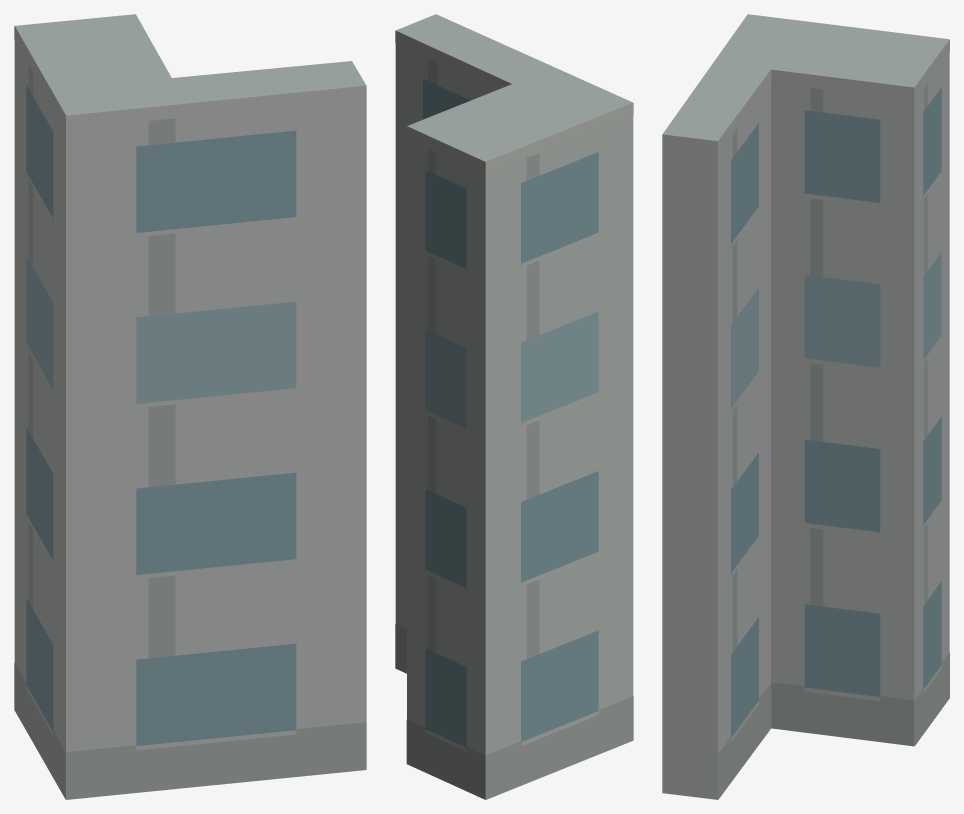
Rendered from survey-upis-32817747.glb.
3 renders of one model, left to right at view 1: azimuth 30°, elevation 25°; view 2: azimuth 150°, elevation 25°; view 3: azimuth 270°, elevation 25°, orthographic. The views are drawn at different scales.
Parts seen in each view (by area): view 1: survey-upis-32817747.tmp; view 2: survey-upis-32817747.tmp; view 3: survey-upis-32817747.tmp.
Boxes of the visible parts, box(x1,y1,x2,y2) form: survey-upis-32817747.tmp: box(14, 14, 366, 799); survey-upis-32817747.tmp: box(395, 14, 633, 799); survey-upis-32817747.tmp: box(662, 14, 949, 799).
Size of the model in its own units: 5.05 by 12.2 by 4.83.
